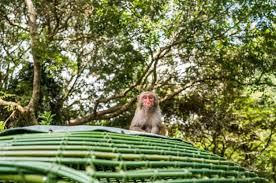monkey: (128, 42, 171, 146)
